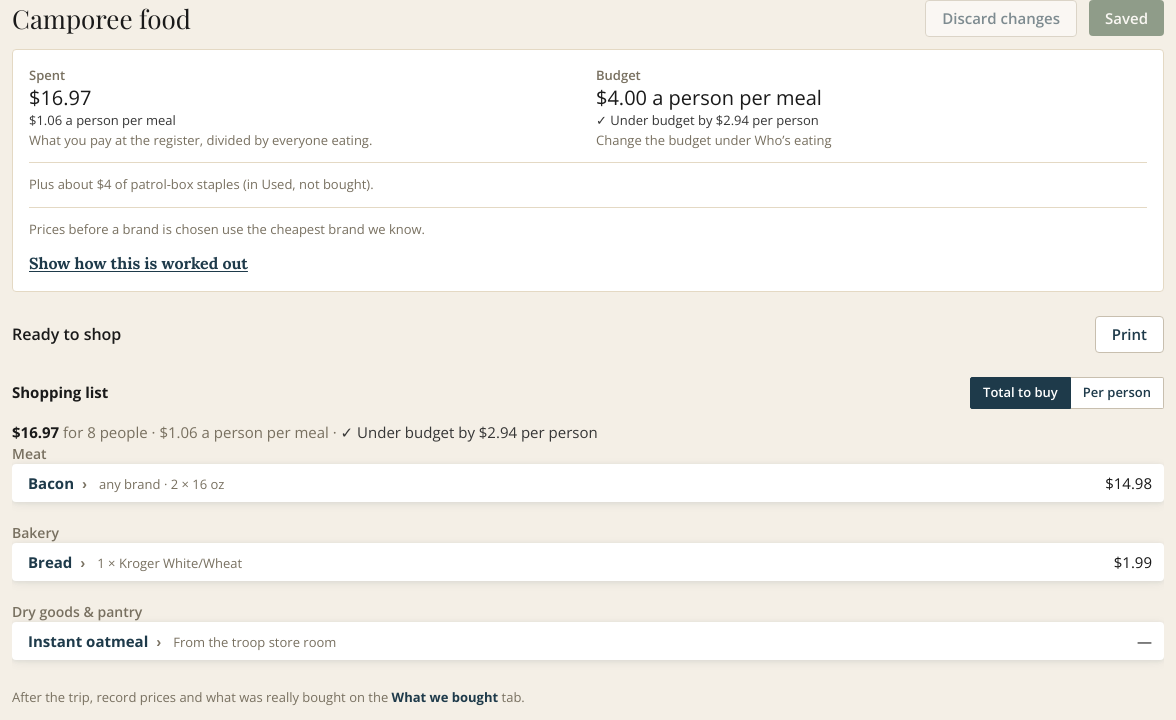
Shopping tab — Updated › AChangedCount_ShowsUpdated_AndPuttingItBackClearsIt
The image size is (1176, 720).
Click the button "Bread ›".
click(57, 562)  # box x1=28 y1=551 x2=85 y2=573
(page scrolled)
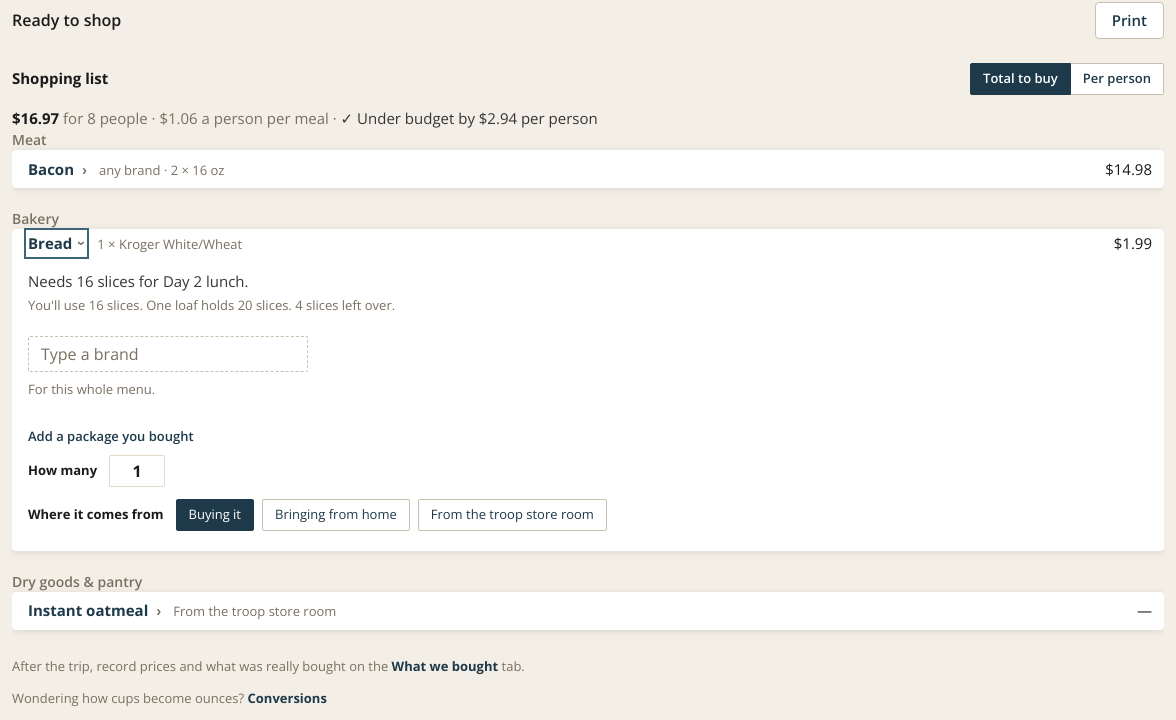
Replace the text in the number field labelled "How many" with "2" at {"x": 137, "y": 470}, box x1=118 y1=456 x2=156 y2=486
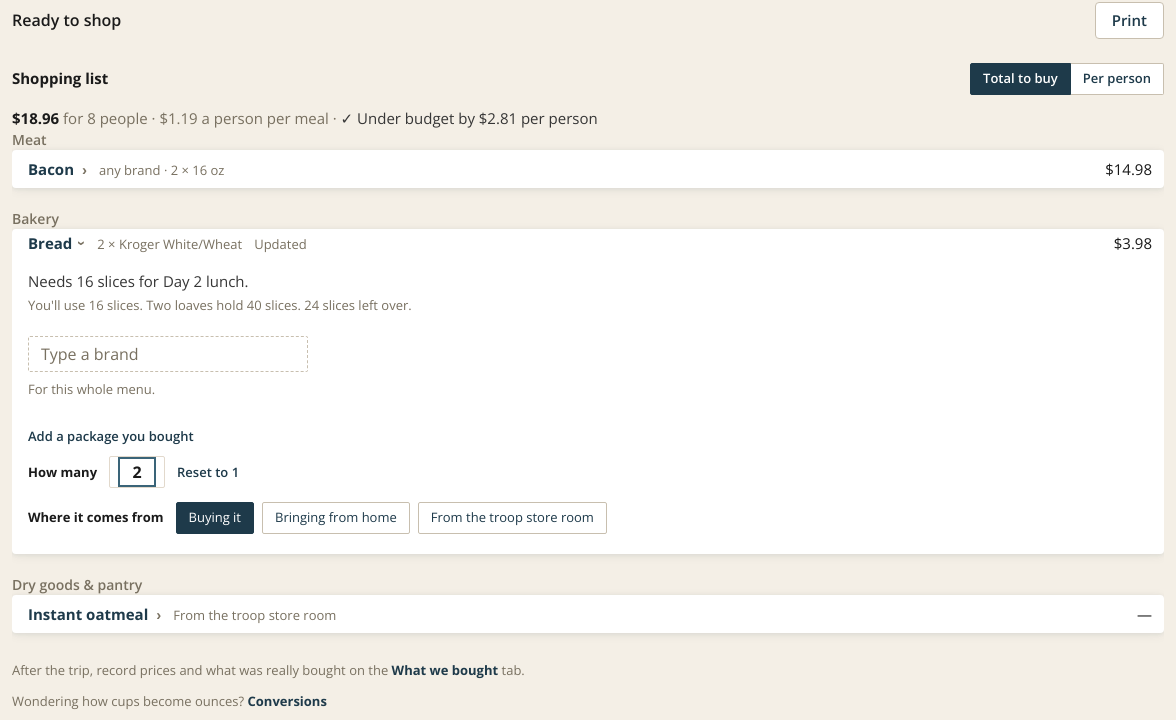
Press Tab
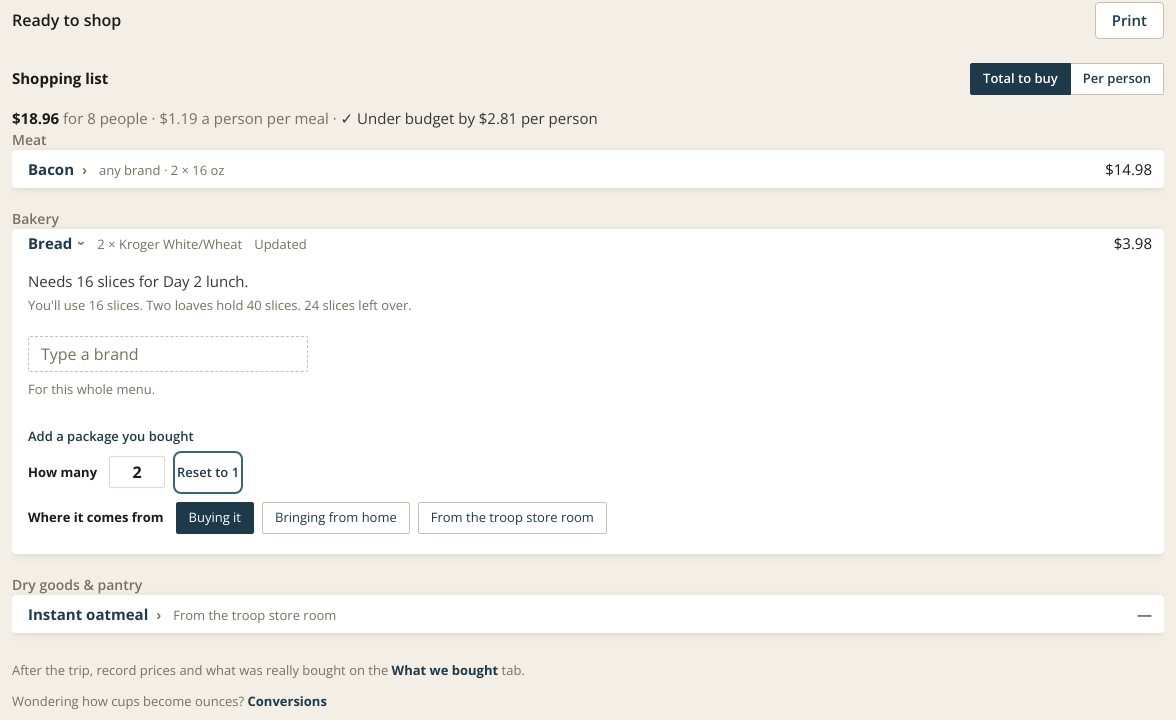
Expected: the text named "Bread, updated" is shown, x1=254 y1=235 x2=307 y2=254
Click the button "Reset to 1".
click(208, 472)  # box x1=177 y1=454 x2=239 y2=490
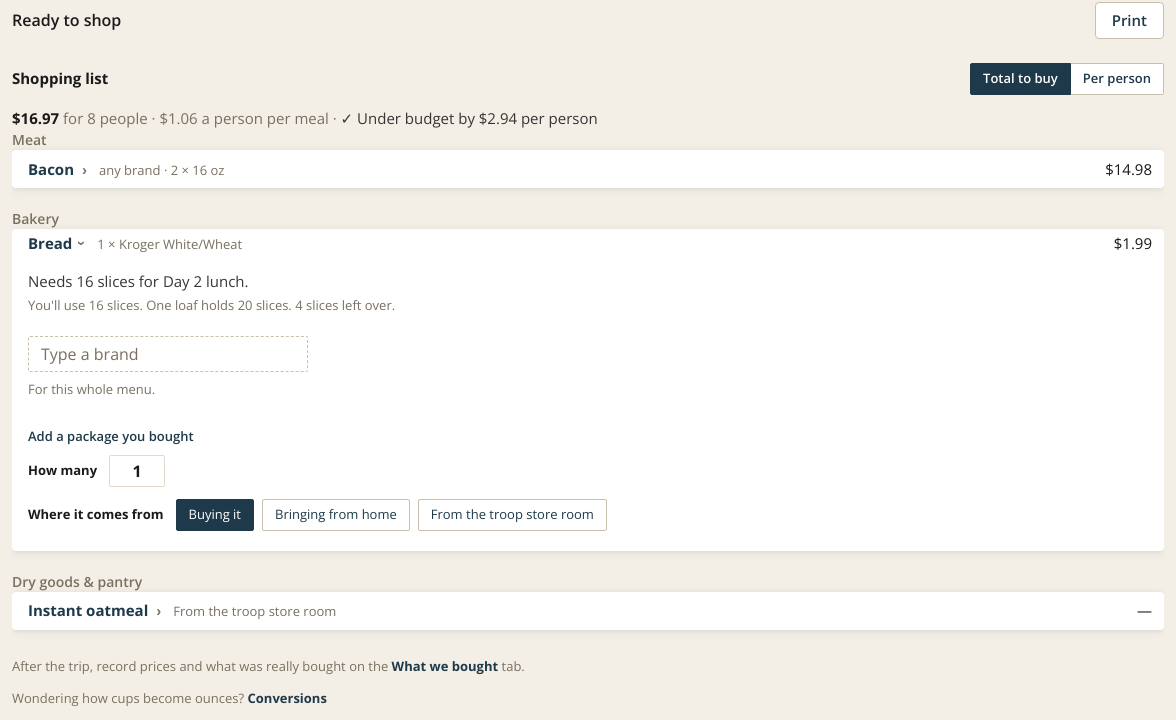
Expected: the text "Updated" is gone
